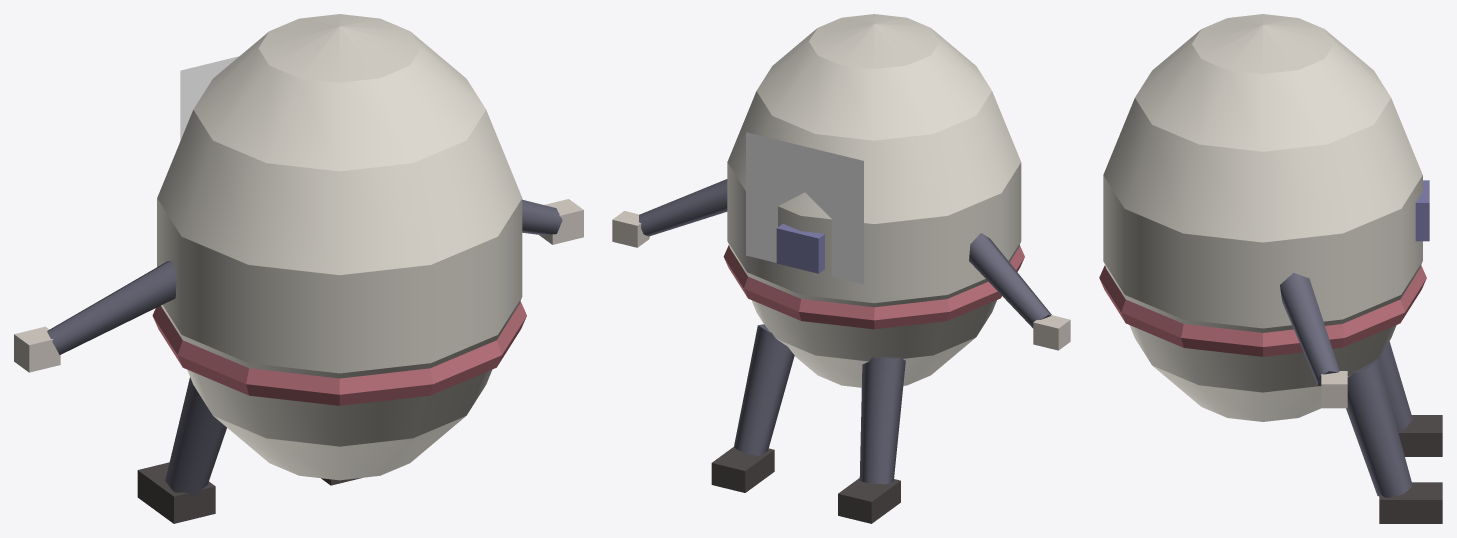
The model's file is egg_large.glb.
The picture shows the model from 3 angles, left to right: view 1: azimuth 30°, elevation 25°; view 2: azimuth 150°, elevation 25°; view 3: azimuth 270°, elevation 25°; orthographic projection. The views are drawn at different scales.
Parts seen in each view (by area): view 1: Body, Head; view 2: Body, Head; view 3: Body.
Part boxes in pixels (x1,y1,x2,y2): Body: [14, 14, 583, 523]; Head: [180, 56, 238, 140]; Body: [612, 14, 1070, 523]; Head: [746, 132, 863, 284]; Body: [1099, 14, 1442, 523].
Size of the model in its own units: 2.12 by 1.91 by 1.3.
